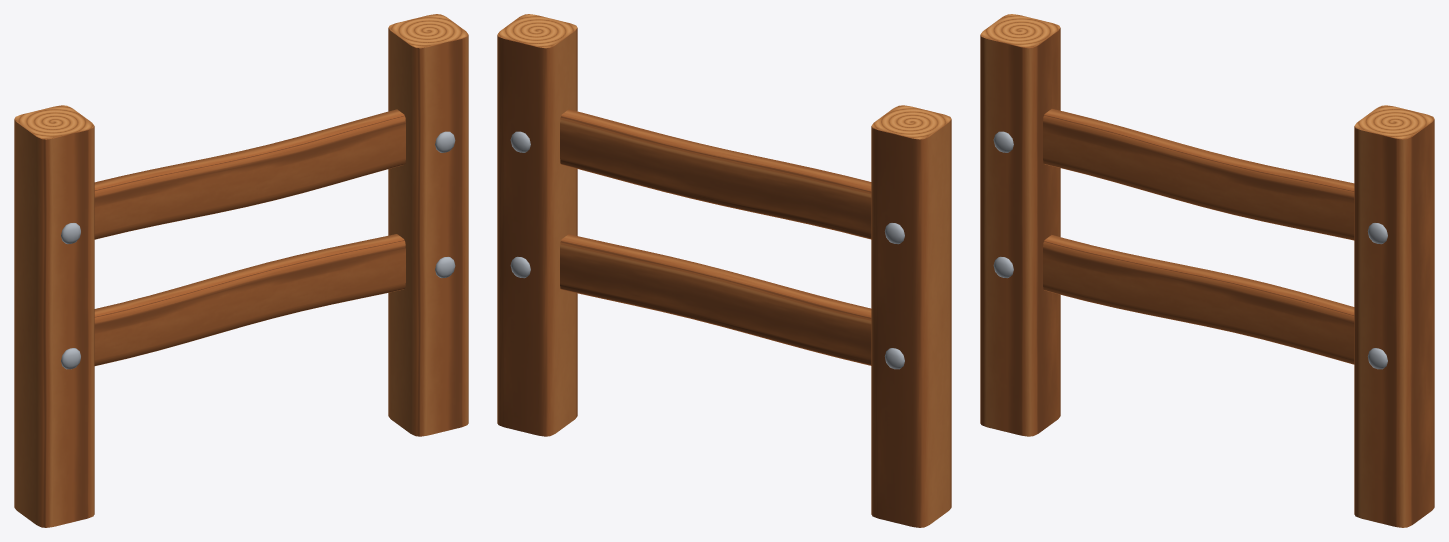
Rendered from fence_section.glb.
The picture shows the model from 3 angles, left to right: view 1: azimuth 30°, elevation 25°; view 2: azimuth 150°, elevation 25°; view 3: azimuth 330°, elevation 25°; orthographic projection.
Parts seen in each view (by area): view 1: model; view 2: model; view 3: model.
Part boxes in pixels (<box>): model: <box>14,14,468,527</box>; model: <box>497,14,951,527</box>; model: <box>980,14,1434,527</box>.
Size of the model in its own units: 1.15 by 0.9932 by 0.1783.
4 materials, 3 textured.
